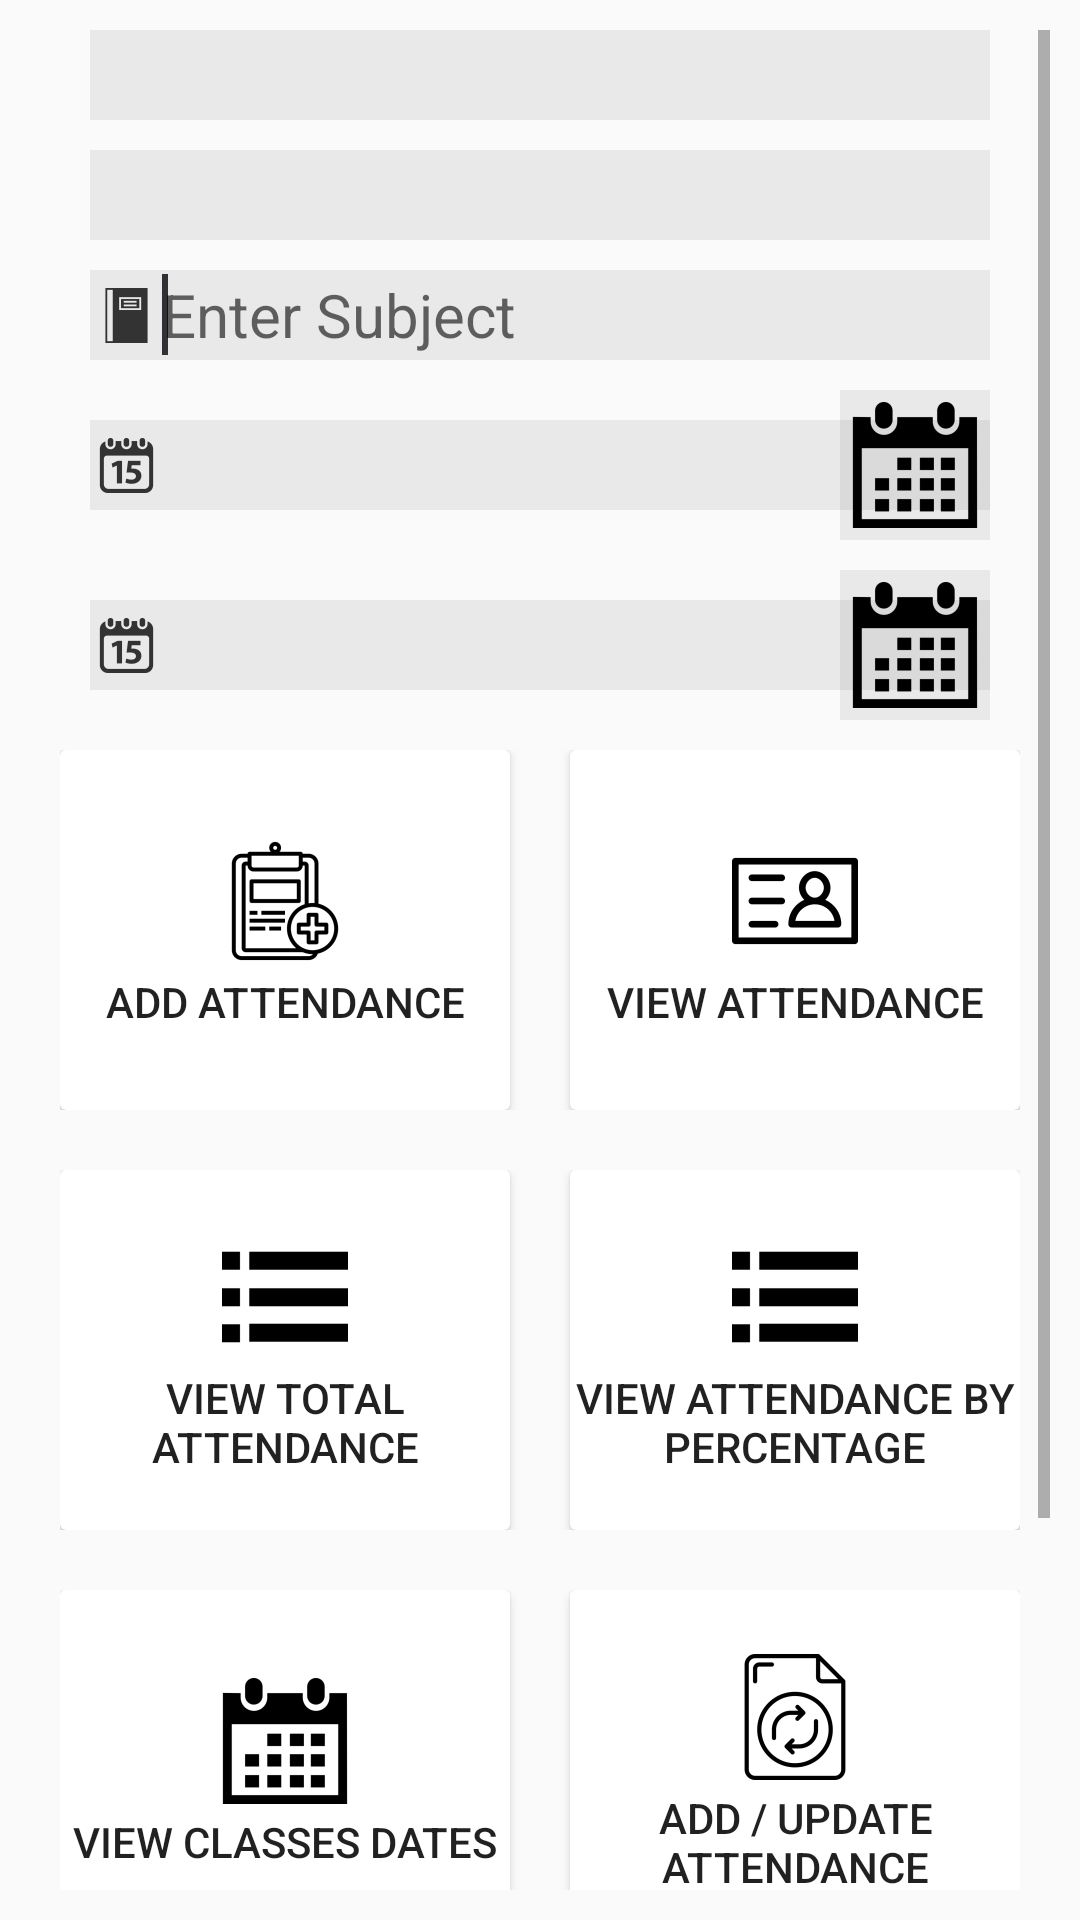

Icons on this 1080x1920 Android screen, each with its box as (x1, y1, x2, y2):
calender: (840, 402, 990, 528), (840, 582, 990, 708)
